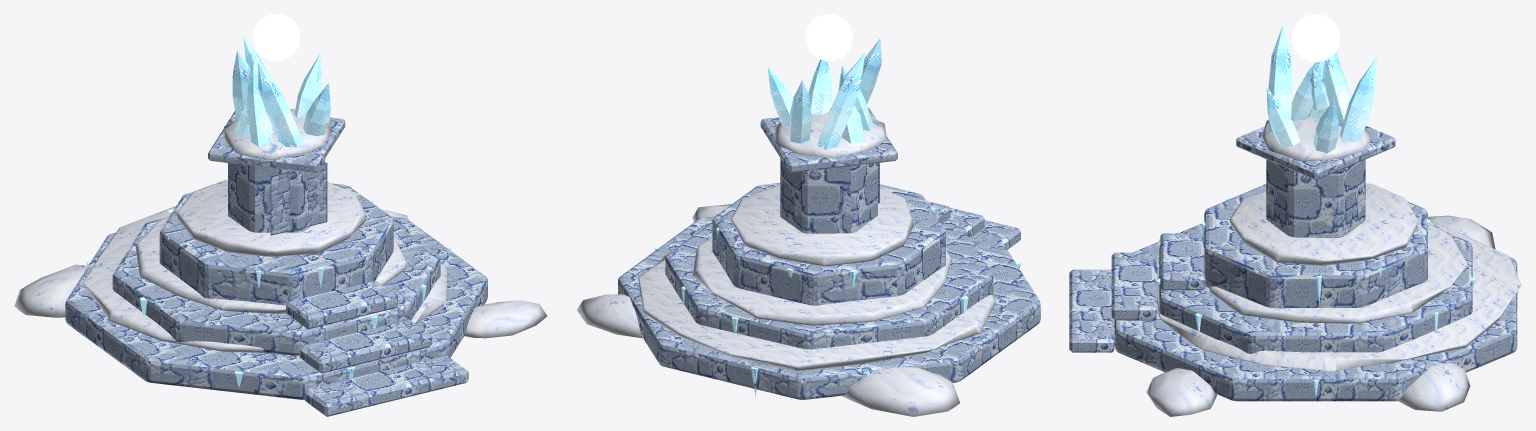
File: frost_altar.glb
3 renders of one model, left to right at view 1: azimuth 30°, elevation 25°; view 2: azimuth 150°, elevation 25°; view 3: azimuth 270°, elevation 25°, orthographic.
Visible parts, largest first — view 1: Snow, Tier0, Tier2, Steps, Tier1, Crown, Pedestal, Plane, Slab, SlabSnow, Orb, Icicles; view 2: Snow, Tier0, Tier2, Tier1, Crown, Pedestal, Slab, SlabSnow, Orb, Steps, Icicles; view 3: Snow, Tier0, Tier2, Tier1, Steps, Crown, Pedestal, Slab, SlabSnow, Orb, Icicles.
Part boxes in pixels (x1=…): Snow: x1=14, y1=179, x2=547, y2=353; Tier0: x1=65, y1=216, x2=487, y2=399; Tier2: x1=159, y1=183, x2=393, y2=305; Steps: x1=286, y1=280, x2=468, y2=416; Tier1: x1=112, y1=218, x2=440, y2=355; Crown: x1=232, y1=36, x2=330, y2=147; Pedestal: x1=228, y1=158, x2=325, y2=232; Plane: x1=270, y1=163, x2=327, y2=235; Slab: x1=208, y1=111, x2=345, y2=172; SlabSnow: x1=223, y1=109, x2=332, y2=159; Orb: x1=253, y1=14, x2=300, y2=60; Icicles: x1=86, y1=199, x2=478, y2=387; Snow: x1=576, y1=185, x2=994, y2=416; Tier0: x1=618, y1=216, x2=1040, y2=399; Tier2: x1=712, y1=183, x2=945, y2=305; Tier1: x1=665, y1=220, x2=993, y2=349; Crown: x1=767, y1=38, x2=881, y2=150; Pedestal: x1=780, y1=158, x2=877, y2=233; Slab: x1=760, y1=107, x2=897, y2=172; SlabSnow: x1=774, y1=108, x2=886, y2=158; Orb: x1=805, y1=14, x2=852, y2=60; Steps: x1=927, y1=201, x2=1020, y2=249; Icicles: x1=655, y1=183, x2=1021, y2=397; Snow: x1=1146, y1=183, x2=1521, y2=416; Tier0: x1=1114, y1=224, x2=1517, y2=401; Tier2: x1=1204, y1=184, x2=1427, y2=308; Tier1: x1=1159, y1=225, x2=1472, y2=353; Steps: x1=1069, y1=233, x2=1205, y2=352; Crown: x1=1266, y1=25, x2=1377, y2=153; Pedestal: x1=1266, y1=159, x2=1365, y2=237; Slab: x1=1236, y1=126, x2=1395, y2=179; SlabSnow: x1=1262, y1=114, x2=1371, y2=161; Orb: x1=1292, y1=14, x2=1340, y2=62; Icicles: x1=1156, y1=196, x2=1518, y2=397.
Bounding box in the file's own units: 7.58 × 5.65 × 7.47.
Materials: 5 (4 with a texture image).
